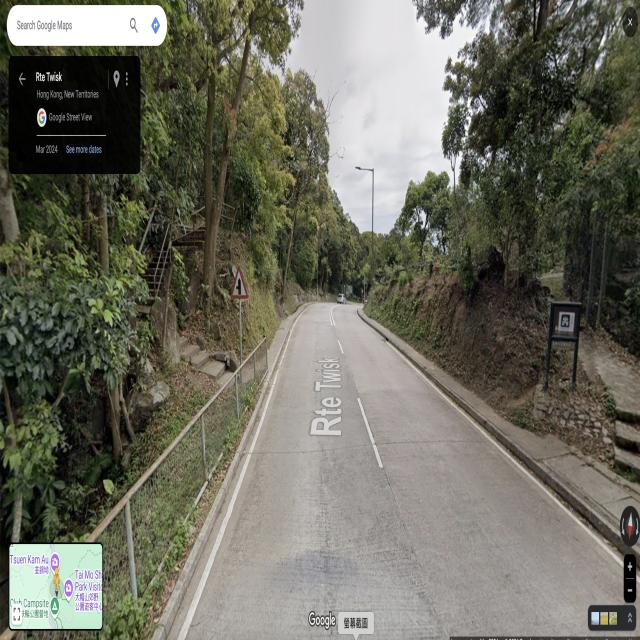Warning-Sign: (231, 266, 249, 298)
